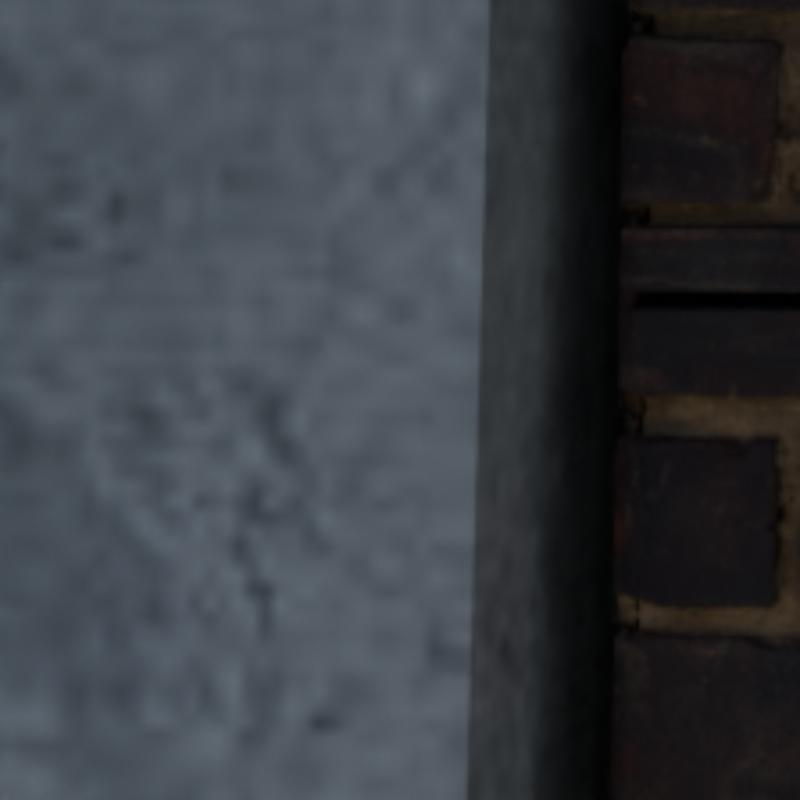pothole: (632, 289, 796, 307)
